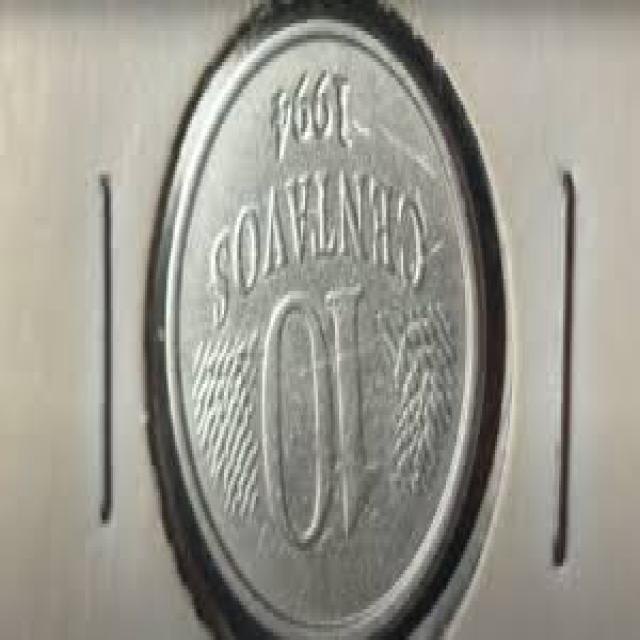10 cent: (159, 20, 484, 640)
